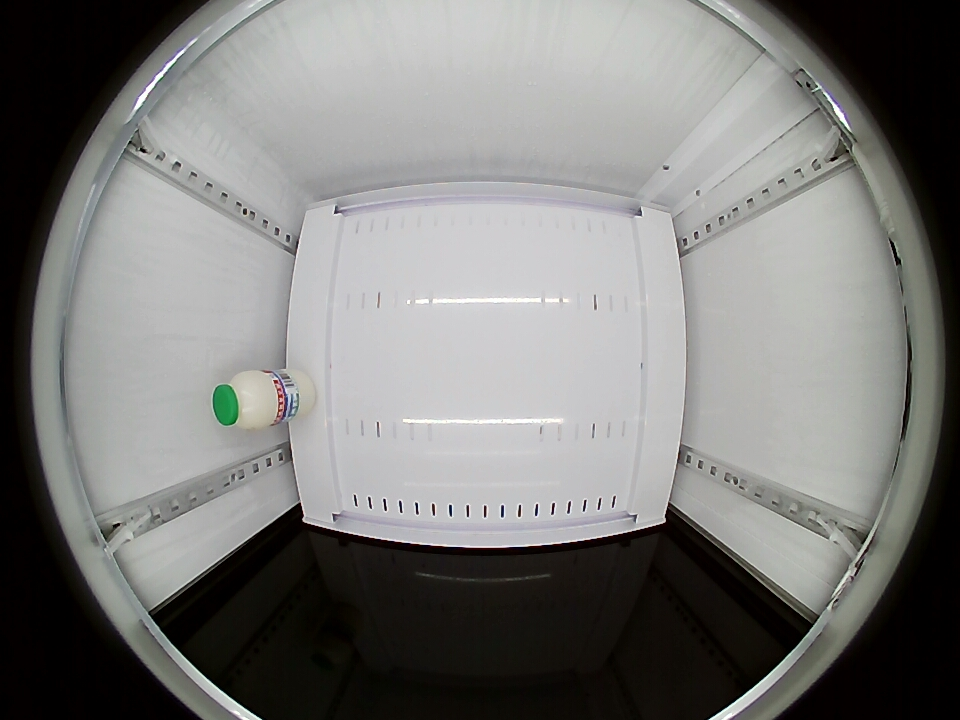liziyuan: (212, 370, 279, 430)
